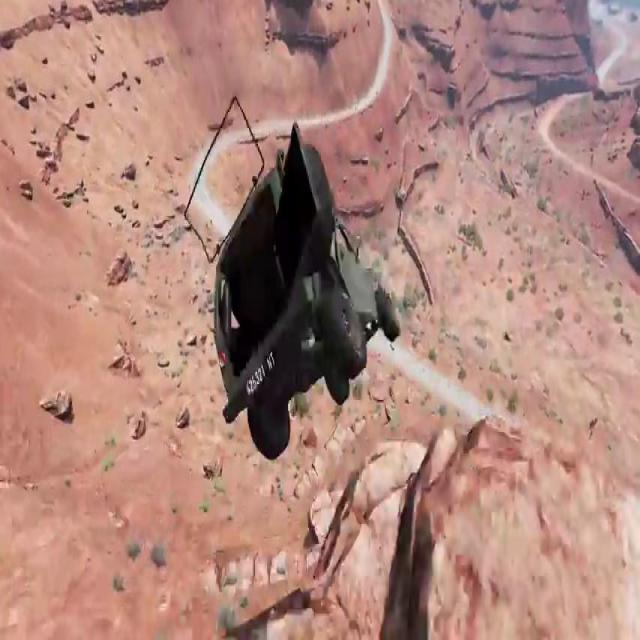severe: (195, 109, 401, 460)
